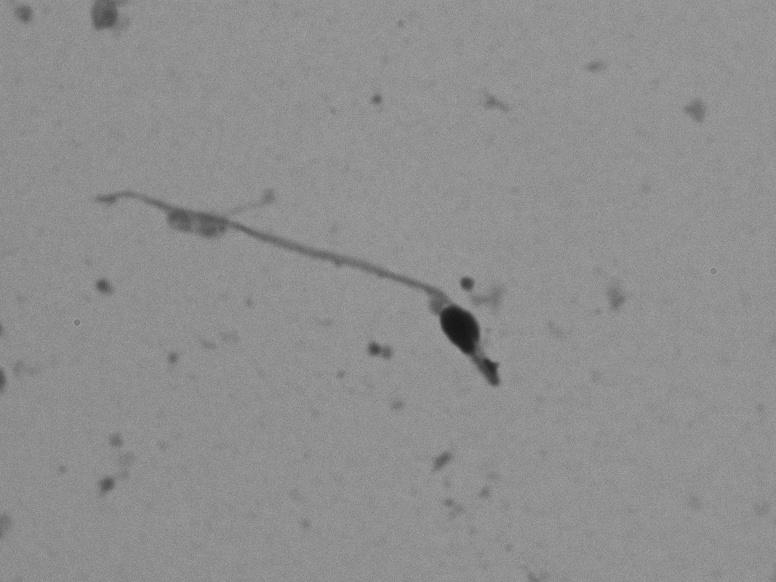Abnormal: (62, 162, 540, 393)
